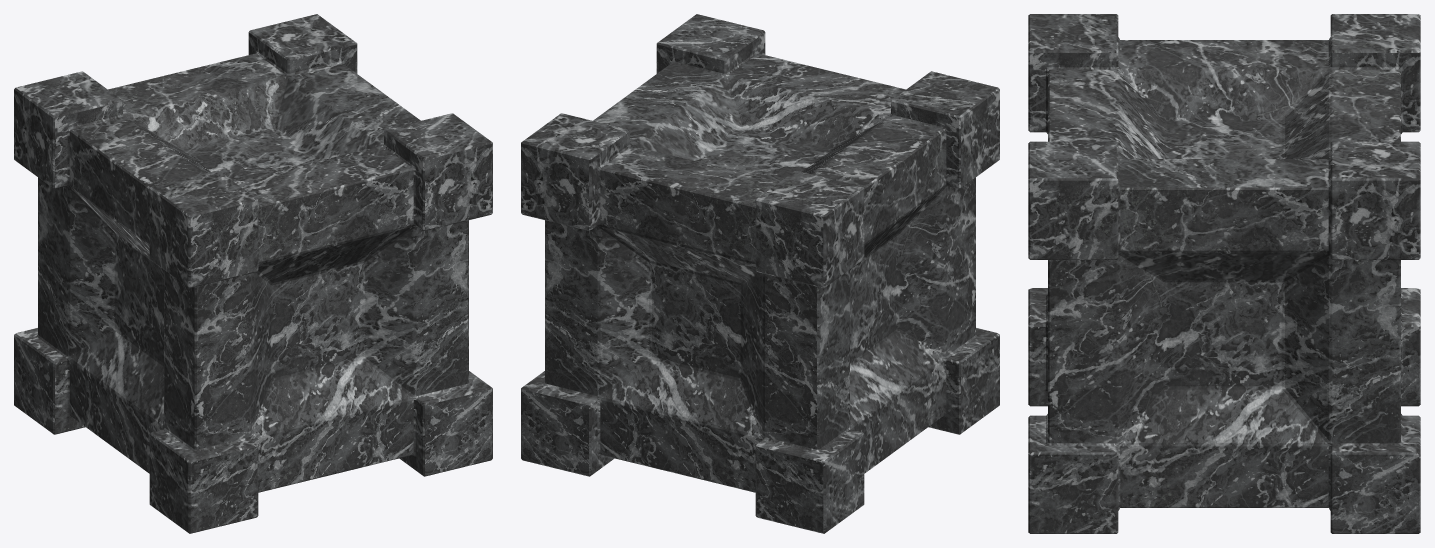
File: rook.glb
The picture shows the model from 3 angles, left to right: view 1: azimuth 30°, elevation 25°; view 2: azimuth 150°, elevation 25°; view 3: azimuth 270°, elevation 25°; orthographic projection. The views are drawn at different scales.
Visible parts, largest first — view 1: rook; view 2: rook; view 3: rook.
Part boxes in pixels (left/top/right/bottom): rook: left=14, top=14, right=492, bottom=533; rook: left=521, top=14, right=999, bottom=533; rook: left=1028, top=14, right=1420, bottom=533.
Size of the model in its own units: 2.32 by 2.32 by 2.32.
1 material, 1 textured.
